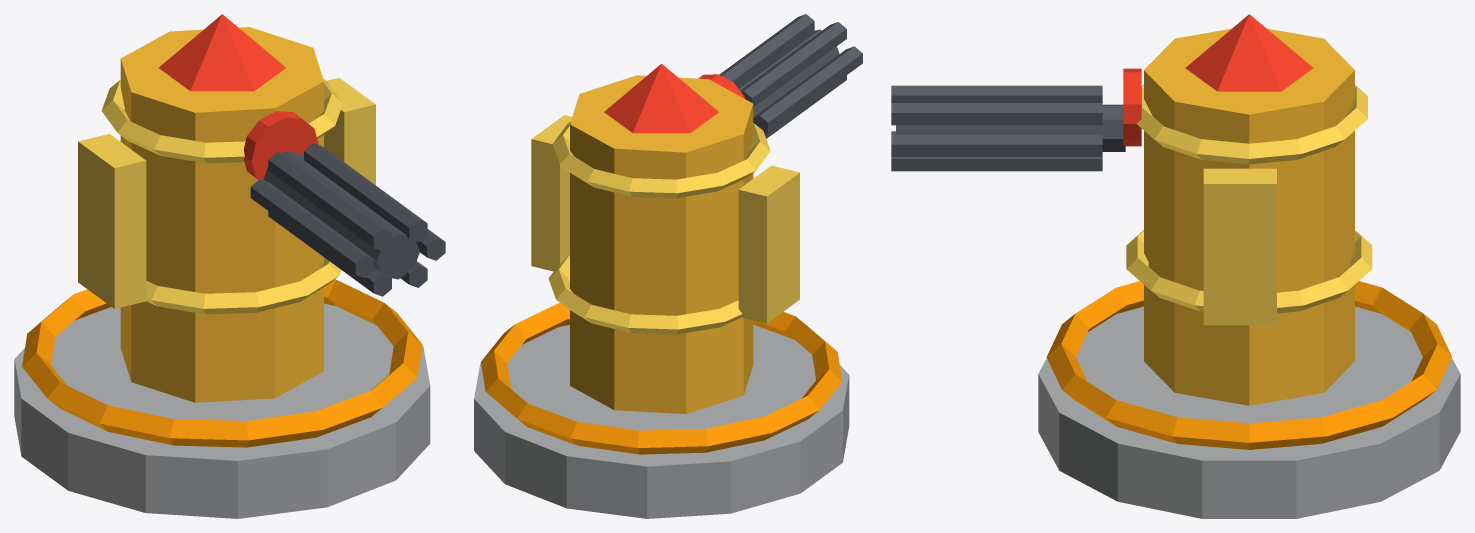
Rendered from TD_RapidTower_T3.fbx.
3 renders of one model, left to right at view 1: azimuth 30°, elevation 25°; view 2: azimuth 150°, elevation 25°; view 3: azimuth 270°, elevation 25°, orthographic. The views are drawn at different scales.
Parts seen in each view (by area): view 1: TD_RapidTower_T3_Body, TD_RapidTower_T3_Base, TD_RapidTower_T3_SpeedRing, TD_RapidTower_T3_GoldSideBrace_Left, TD_RapidTower_T3_TopSpeedAccent, TD_RapidTower_T3_GoldUpgradeBand_Upper, TD_RapidTower_T3_GoldUpgradeBand_Lower, TD_RapidTower_T3_GatlingCore, TD_RapidTower_T3_GoldSideBrace_Right, TD_RapidTower_T3_GatlingBarrel_1, TD_RapidTower_T3_GatlingBarrel_2, TD_RapidTower_T3_GatlingBarrel_3 (+3 smaller); view 2: TD_RapidTower_T3_Body, TD_RapidTower_T3_Base, TD_RapidTower_T3_SpeedRing, TD_RapidTower_T3_GoldSideBrace_Left, TD_RapidTower_T3_GoldSideBrace_Right, TD_RapidTower_T3_TopSpeedAccent, TD_RapidTower_T3_GoldUpgradeBand_Upper, TD_RapidTower_T3_GoldUpgradeBand_Lower, TD_RapidTower_T3_GatlingBarrel_1, TD_RapidTower_T3_GatlingBarrel_2, TD_RapidTower_T3_GatlingBarrel_3, TD_RapidTower_T3_GatlingCore (+1 smaller); view 3: TD_RapidTower_T3_Body, TD_RapidTower_T3_Base, TD_RapidTower_T3_SpeedRing, TD_RapidTower_T3_GoldSideBrace_Right, TD_RapidTower_T3_TopSpeedAccent, TD_RapidTower_T3_GoldUpgradeBand_Upper, TD_RapidTower_T3_GatlingBarrel_3, TD_RapidTower_T3_GatlingBarrel_4, TD_RapidTower_T3_GoldUpgradeBand_Lower, TD_RapidTower_T3_GatlingBarrel_2, TD_RapidTower_T3_GatlingBarrel_5, TD_RapidTower_T3_GatlingCore (+1 smaller).
Part boxes in pixels (left/top/right/bottom): TD_RapidTower_T3_Body: left=120, top=27, right=323, bottom=402; TD_RapidTower_T3_Base: left=14, top=303, right=430, bottom=518; TD_RapidTower_T3_SpeedRing: left=22, top=279, right=422, bottom=447; TD_RapidTower_T3_GoldSideBrace_Left: left=78, top=134, right=146, bottom=308; TD_RapidTower_T3_TopSpeedAccent: left=158, top=14, right=285, bottom=91; TD_RapidTower_T3_GoldUpgradeBand_Upper: left=101, top=78, right=342, bottom=163; TD_RapidTower_T3_GoldUpgradeBand_Lower: left=145, top=257, right=341, bottom=314; TD_RapidTower_T3_GatlingCore: left=263, top=151, right=419, bottom=279; TD_RapidTower_T3_GoldSideBrace_Right: left=324, top=78, right=375, bottom=185; TD_RapidTower_T3_GatlingBarrel_1: left=250, top=179, right=374, bottom=277; TD_RapidTower_T3_GatlingBarrel_2: left=268, top=152, right=391, bottom=250; TD_RapidTower_T3_GatlingBarrel_3: left=304, top=143, right=427, bottom=242; TD_RapidTower_T3_Body: left=570, top=75, right=753, bottom=414; TD_RapidTower_T3_Base: left=474, top=324, right=849, bottom=518; TD_RapidTower_T3_SpeedRing: left=481, top=303, right=842, bottom=454; TD_RapidTower_T3_GoldSideBrace_Left: left=738, top=165, right=799, bottom=323; TD_RapidTower_T3_GoldSideBrace_Right: left=531, top=115, right=571, bottom=271; TD_RapidTower_T3_TopSpeedAccent: left=604, top=63, right=718, bottom=133; TD_RapidTower_T3_GoldUpgradeBand_Upper: left=552, top=121, right=770, bottom=198; TD_RapidTower_T3_GoldUpgradeBand_Lower: left=548, top=254, right=742, bottom=334; TD_RapidTower_T3_GatlingBarrel_1: left=753, top=46, right=862, bottom=133; TD_RapidTower_T3_GatlingBarrel_2: left=740, top=22, right=846, bottom=106; TD_RapidTower_T3_GatlingBarrel_3: left=719, top=14, right=814, bottom=85; TD_RapidTower_T3_GatlingCore: left=737, top=29, right=839, bottom=116; TD_RapidTower_T3_Body: left=1144, top=28, right=1354, bottom=405; TD_RapidTower_T3_Base: left=1038, top=306, right=1460, bottom=518; TD_RapidTower_T3_SpeedRing: left=1046, top=281, right=1451, bottom=449; TD_RapidTower_T3_GoldSideBrace_Right: left=1203, top=168, right=1276, bottom=325; TD_RapidTower_T3_TopSpeedAccent: left=1185, top=14, right=1313, bottom=91; TD_RapidTower_T3_GoldUpgradeBand_Upper: left=1137, top=85, right=1367, bottom=164; TD_RapidTower_T3_GatlingBarrel_3: left=891, top=103, right=1102, bottom=125; TD_RapidTower_T3_GatlingBarrel_4: left=891, top=134, right=1102, bottom=156; TD_RapidTower_T3_GoldUpgradeBand_Lower: left=1126, top=230, right=1372, bottom=313; TD_RapidTower_T3_GatlingBarrel_2: left=891, top=85, right=1102, bottom=102; TD_RapidTower_T3_GatlingBarrel_5: left=891, top=157, right=1102, bottom=171; TD_RapidTower_T3_GatlingCore: left=896, top=104, right=1125, bottom=151.
Bounding box in the file's own units: 0.8969 × 1.01 × 1.24.
